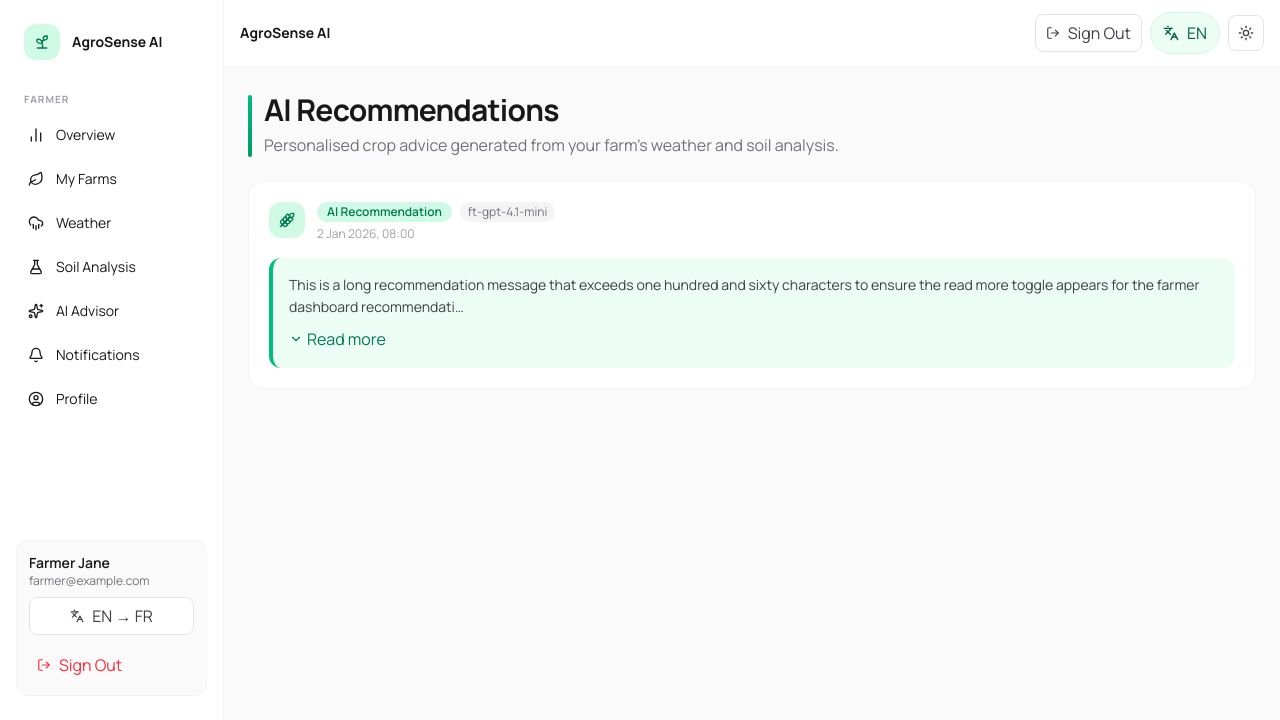
it: Farmer dashboard pages › toggles recommendation expansion
This screenshot has width=1280, height=720.
Click the button "Read more" at (337, 339), box [289,327,386,351]
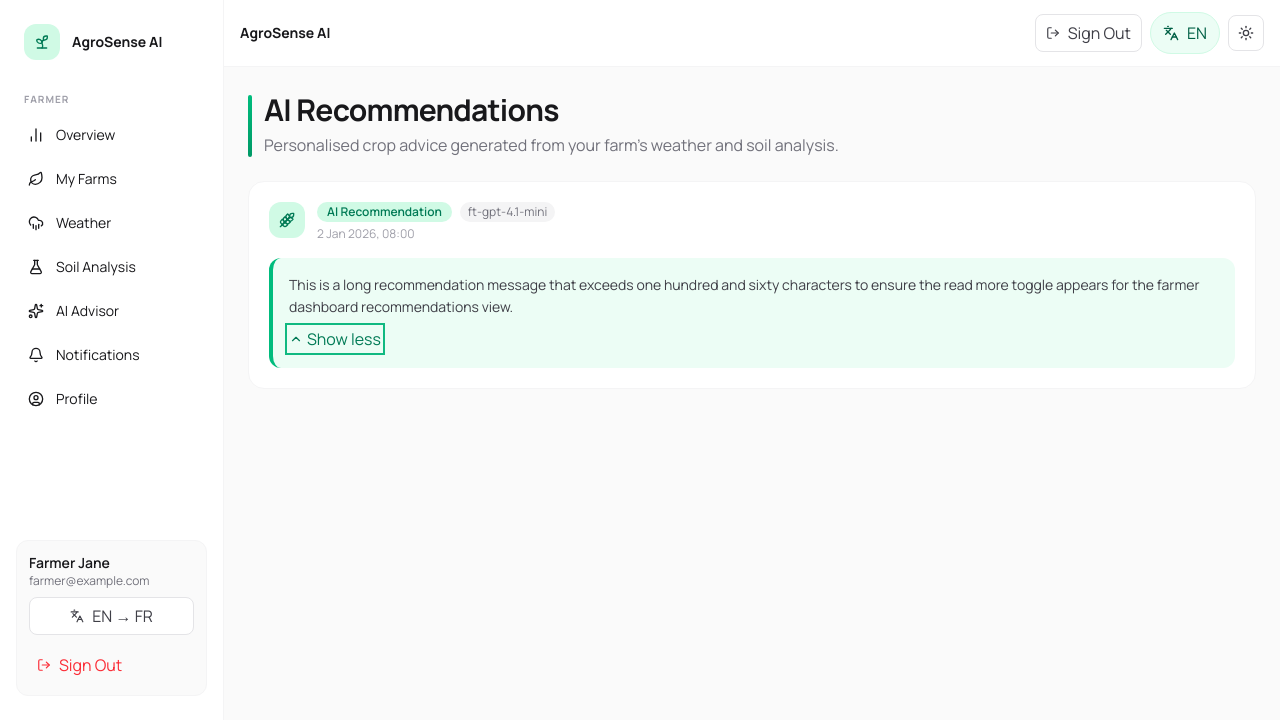
expect the button "Show less" is shown: met, box [289,327,381,351]
